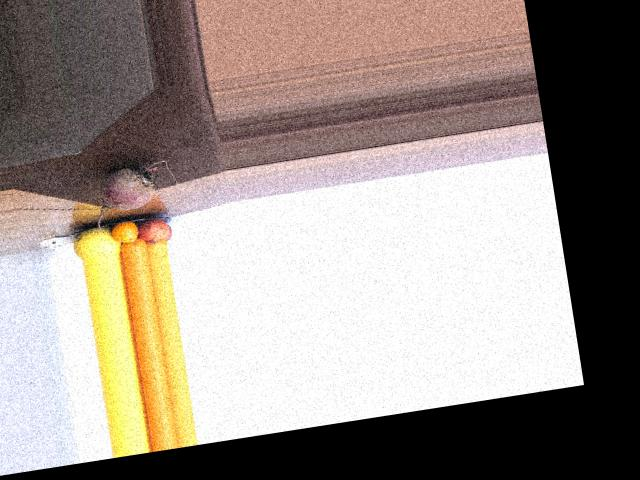beet: (88, 158, 183, 234)
